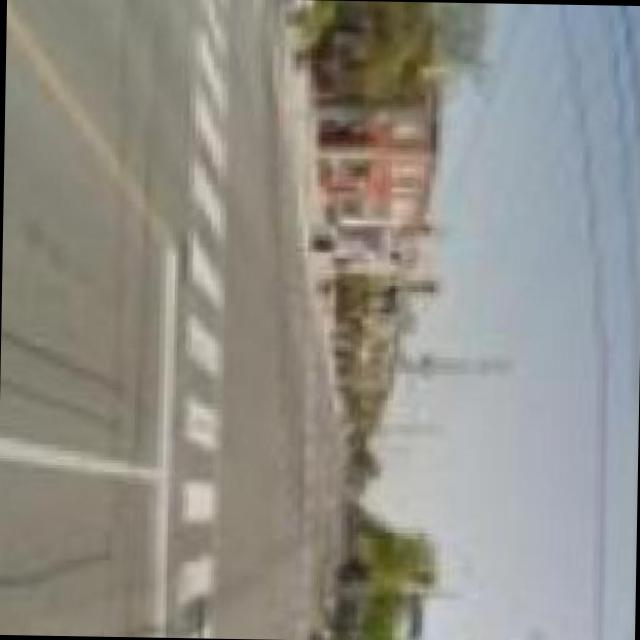zebra: (134, 0, 247, 639)
